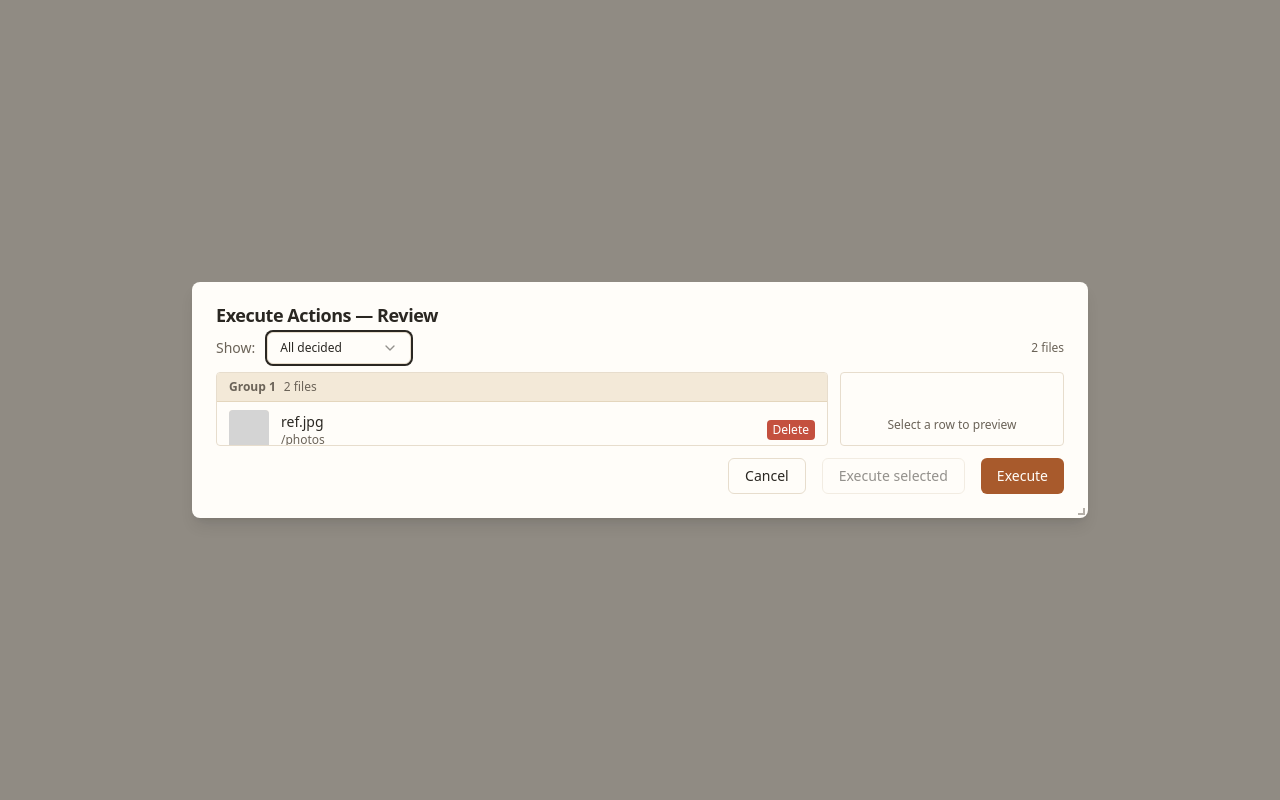
Scenario: ExecuteDialog › Execute-selected on a delete-only row shows the delete-confirm gate
Click the button with test id "execute-row-1-ref.jpg".
click(249, 430)  # box [217,402,827,459]
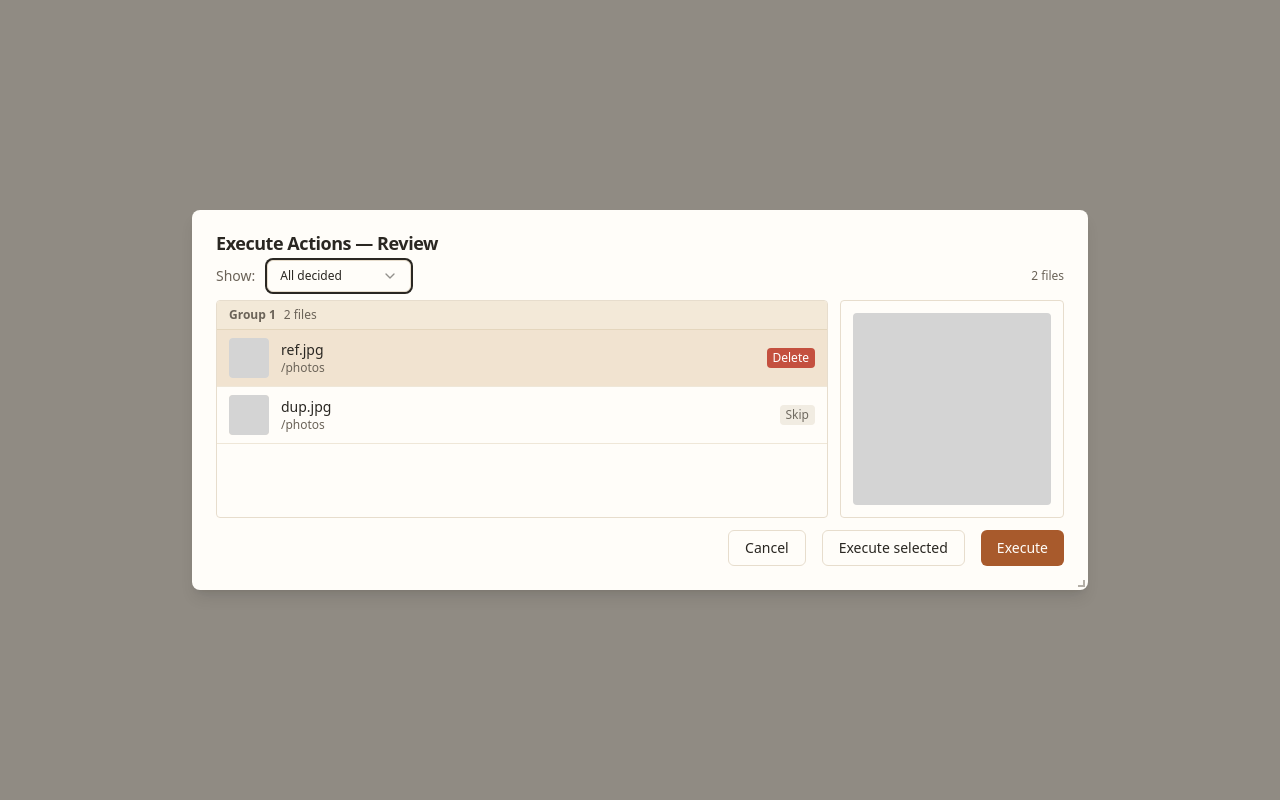
Click the button with test id "execute-btn-execute-selected".
click(893, 548)  # box [822,530,965,566]
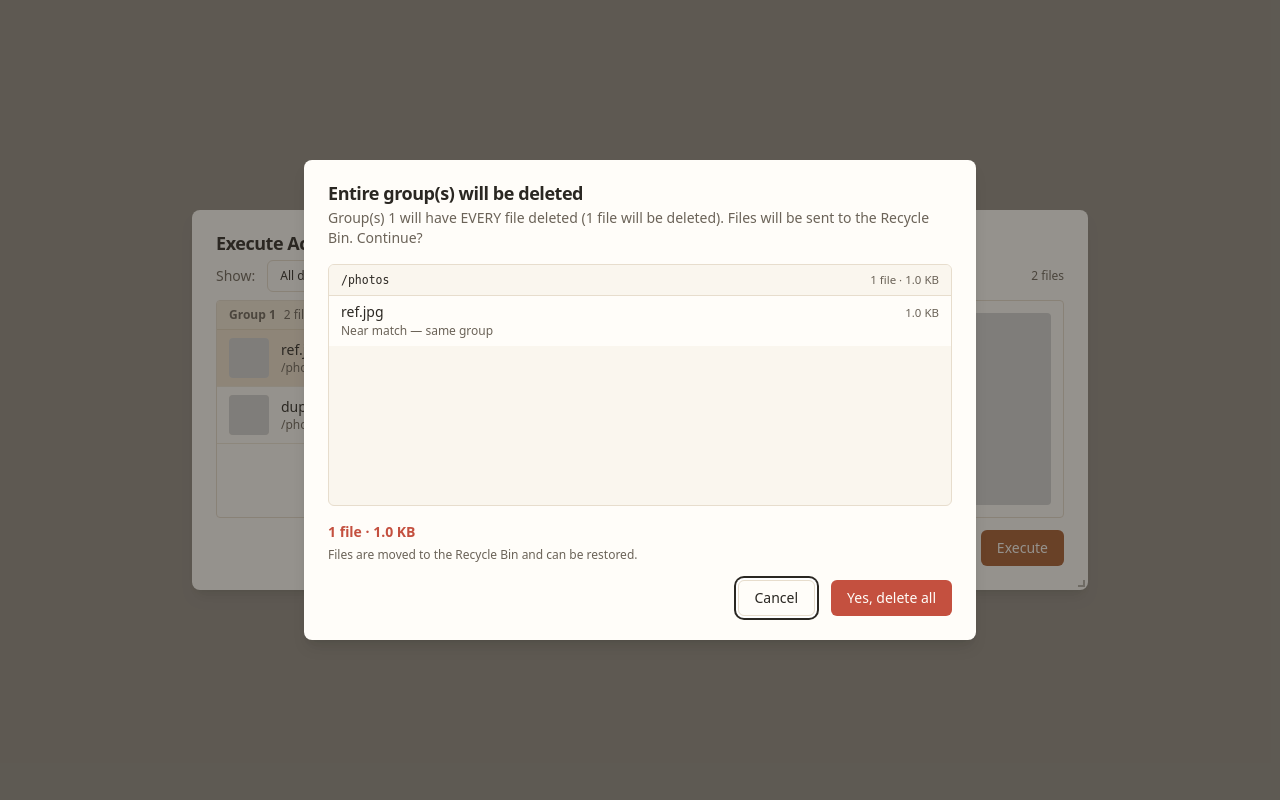
Now the dialog with test id "execute-all-delete-confirm" is shown, box [304,160,976,640]
